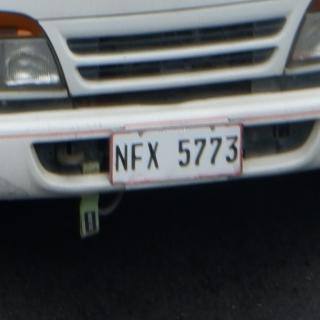license: (111, 125, 243, 185)
